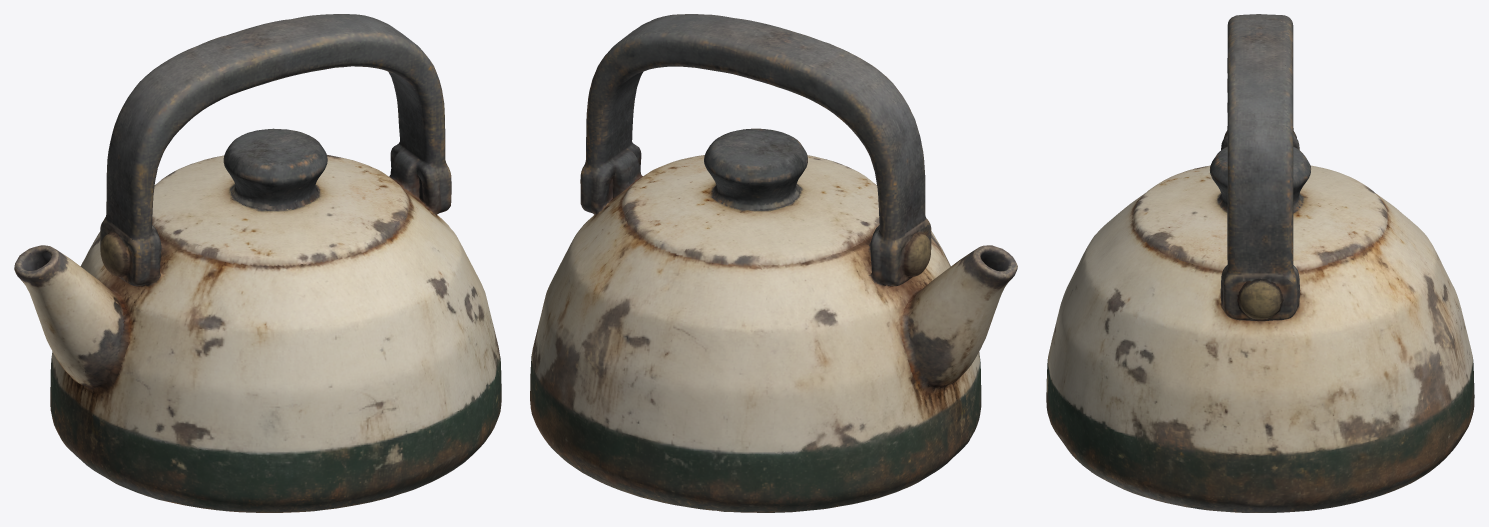
The model's file is raw.glb.
The picture shows the model from 3 angles, left to right: view 1: azimuth 30°, elevation 25°; view 2: azimuth 150°, elevation 25°; view 3: azimuth 270°, elevation 25°; orthographic projection. The views are drawn at different scales.
Bounding box in the file's own units: 1.01 × 0.8553 × 0.8525.
Materials: 1 (1 with a texture image).
